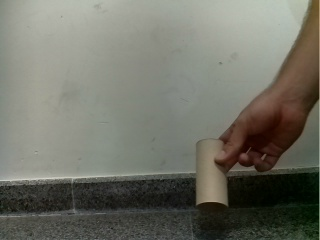rollo papel: (194, 137, 229, 207)
